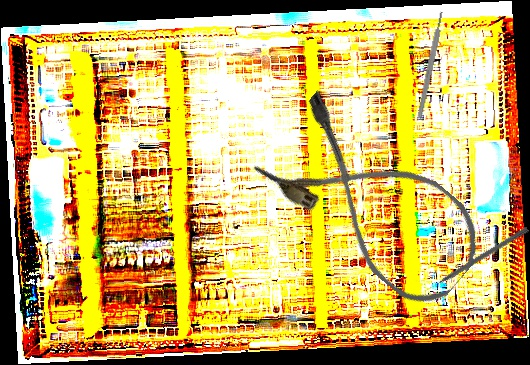Cannula: (250, 85, 499, 319)
Pusher: (422, 225, 530, 294)
Scalpel Handle: (416, 11, 445, 119)
